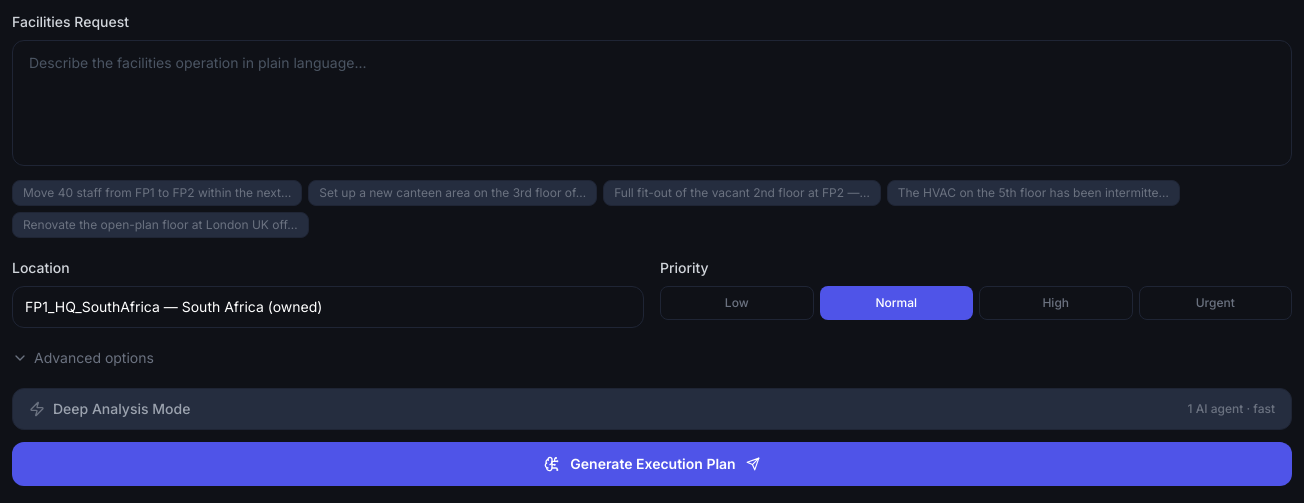
RequestForm › enables Deep Analysis mode and updates submit button label
The width and height of the screenshot is (1304, 503).
Expected: the submit button reads "Generate Execution Plan", [12,442,1292,486]
Step 1. Click the button "Deep Analysis Mode 1 AI agent · fast" → (122, 408), box [12,388,1292,430]
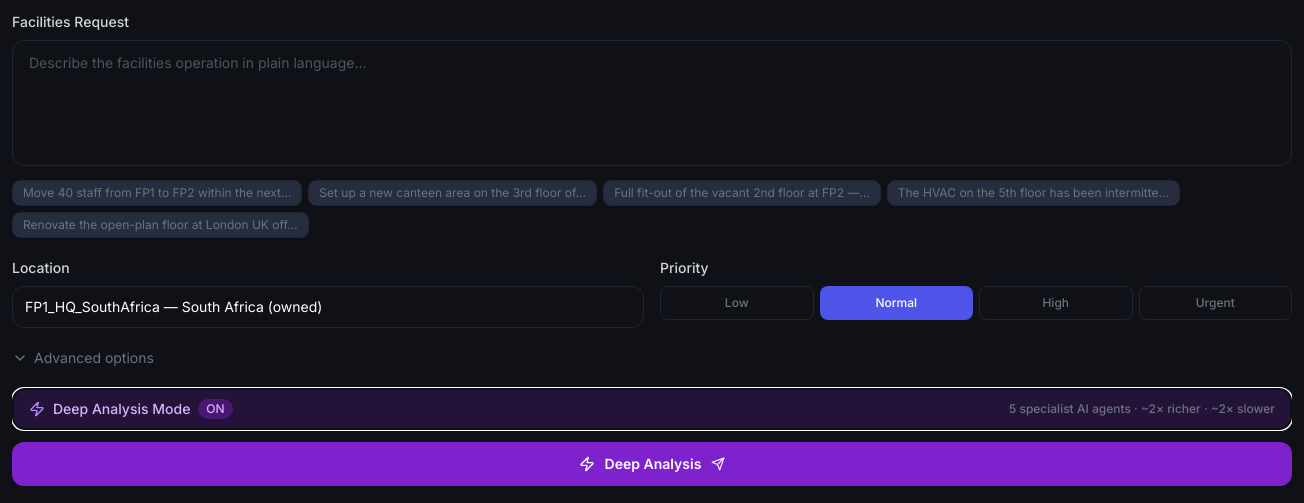
Expected: the text "ON" is shown, [198,399,233,419]
Expected: the submit button reads "Deep Analysis", [12,442,1292,486]
